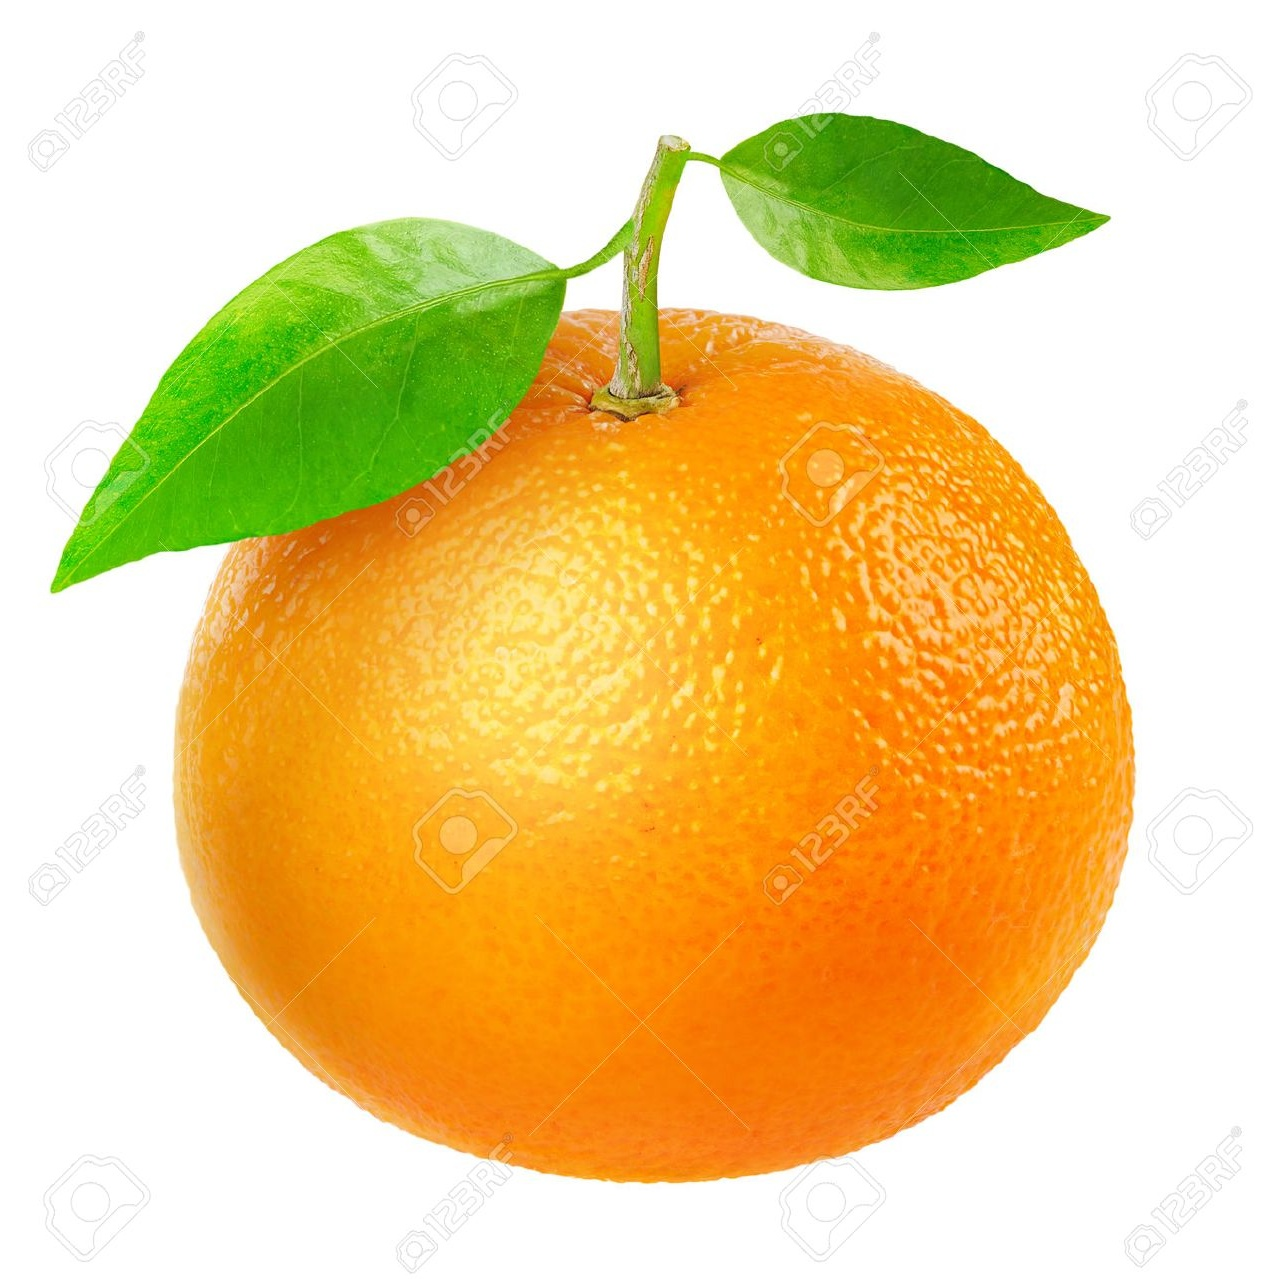mandarin: (173, 310, 1140, 1175)
